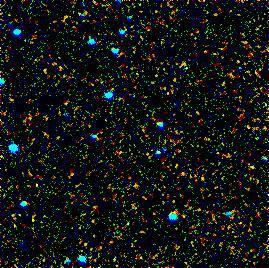star: (172, 203, 202, 233)
